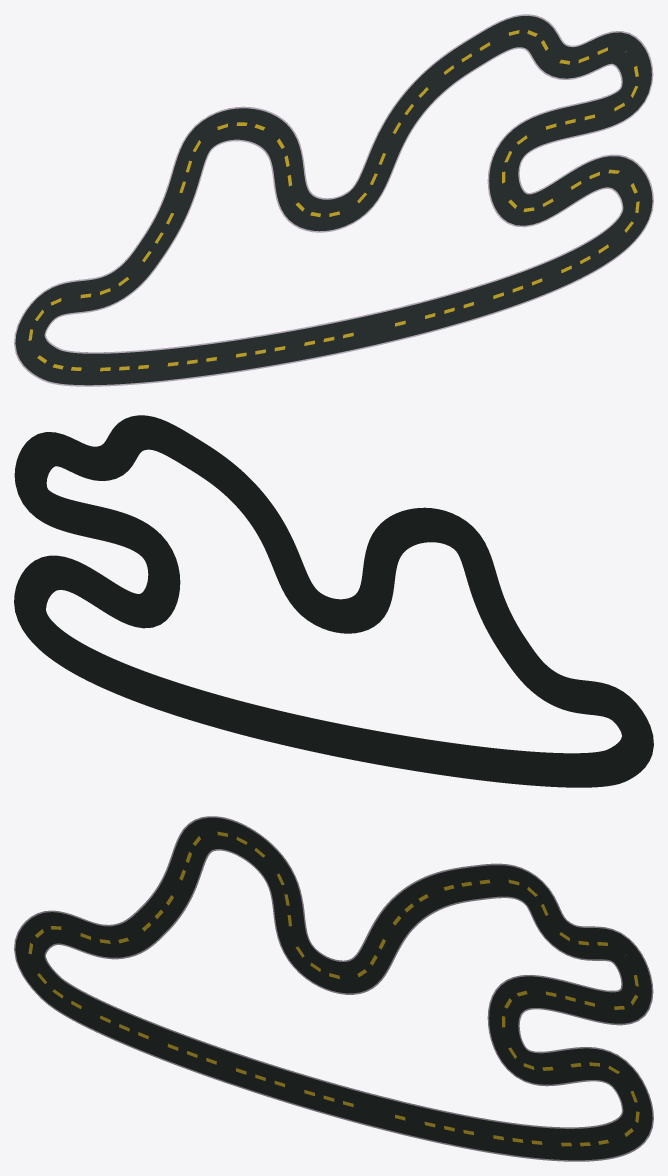
File: track.obj
The picture shows the model from 3 angles, top to bottom: view 1: azimuth 30°, elevation 25°; view 2: azimuth 150°, elevation 25°; view 3: azimuth 330°, elevation 25°; orthographic projection.
Size of the model in its own units: 18.26 by 8.09 by 0.002.
